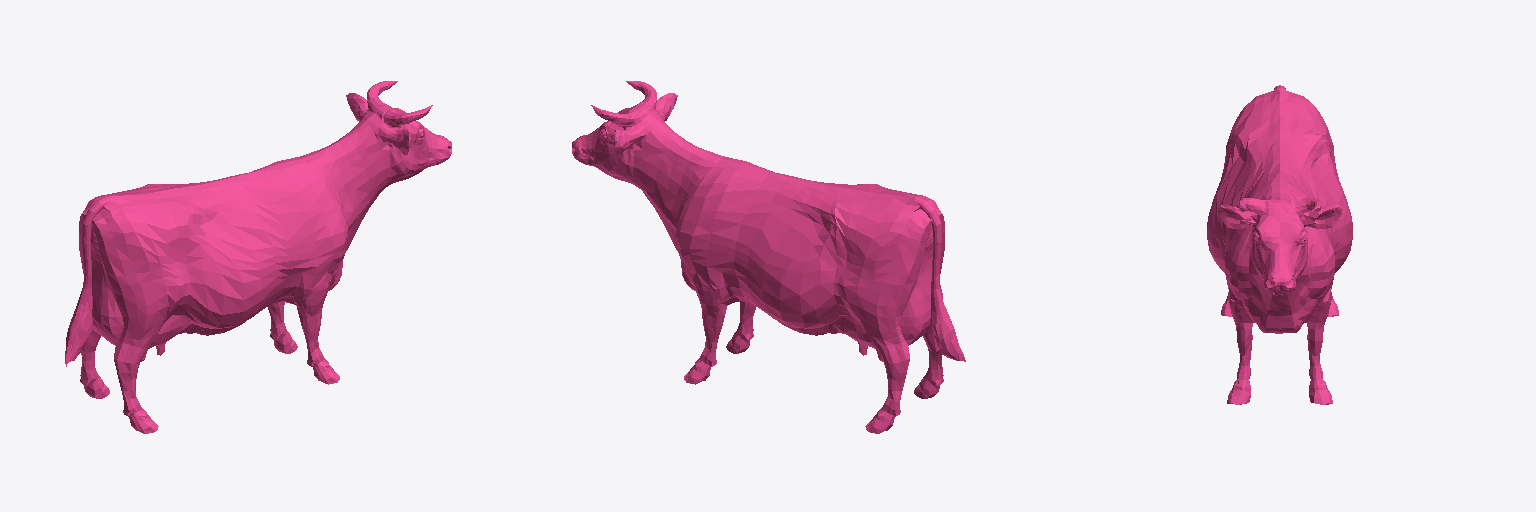
Rendered from cow.obj.
3 renders of one model, left to right at view 1: azimuth 30°, elevation 25°; view 2: azimuth 150°, elevation 25°; view 3: azimuth 270°, elevation 25°, orthographic.
Parts seen in each view (by area): view 1: Object.1; view 2: Object.1; view 3: Object.1.
Part boxes in pixels (bbox=[...]): Object.1: bbox=[65, 81, 451, 433]; Object.1: bbox=[572, 81, 965, 433]; Object.1: bbox=[1207, 85, 1352, 404].
Size of the model in its own units: 117 by 71.62 by 38.1.